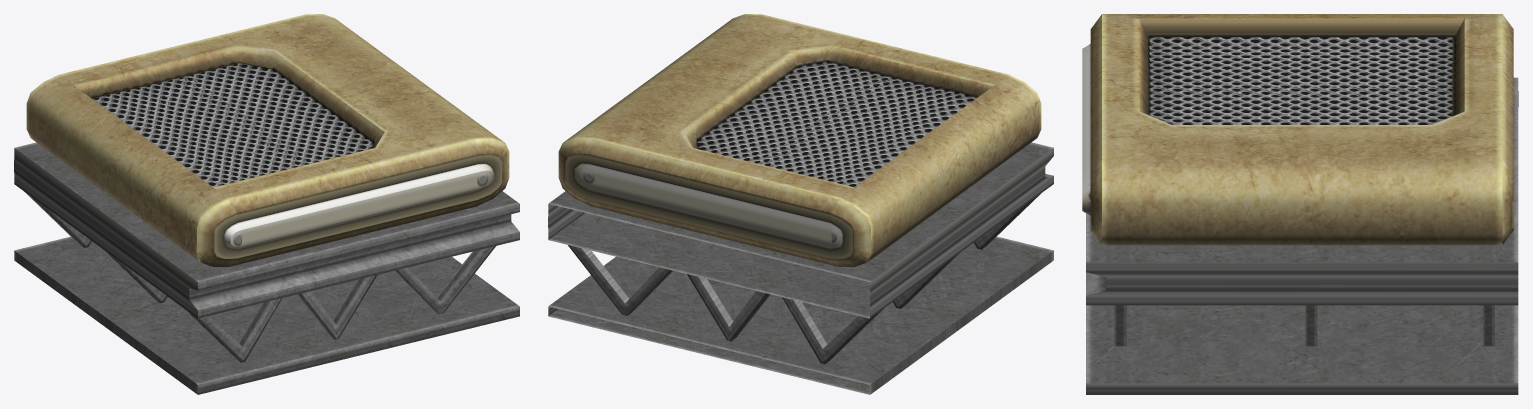
The model's file is platform05.FBX.
The picture shows the model from 3 angles, left to right: view 1: azimuth 30°, elevation 25°; view 2: azimuth 150°, elevation 25°; view 3: azimuth 270°, elevation 25°; orthographic projection. The views are drawn at different scales.
Parts seen in each view (by area): view 1: platform04; view 2: platform04; view 3: platform04.
Boxes of the visible parts, x1=… form: platform04: x1=14, y1=14, x2=519, y2=394; platform04: x1=548, y1=14, x2=1053, y2=394; platform04: x1=1082, y1=14, x2=1518, y2=394.
Size of the model in its own units: 71.86 by 38.72 by 71.69.
